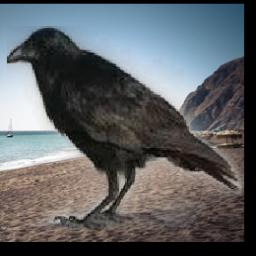Crow: (6, 27, 243, 231)
